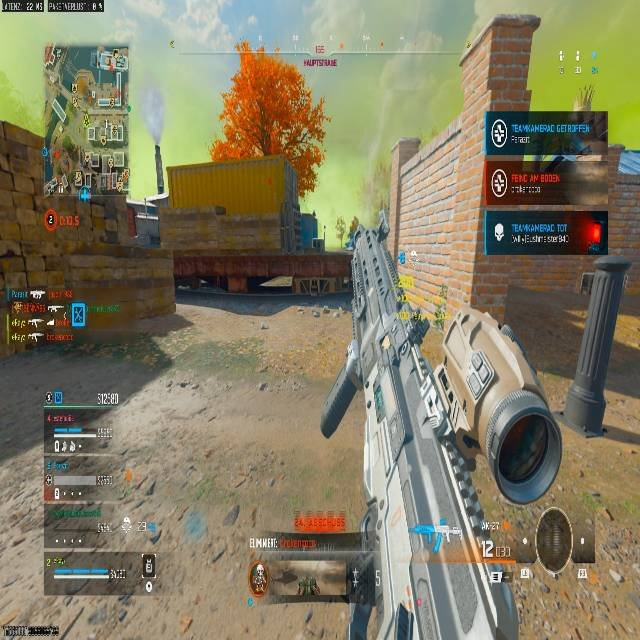player: (249, 559, 269, 599), (573, 139, 593, 155)
